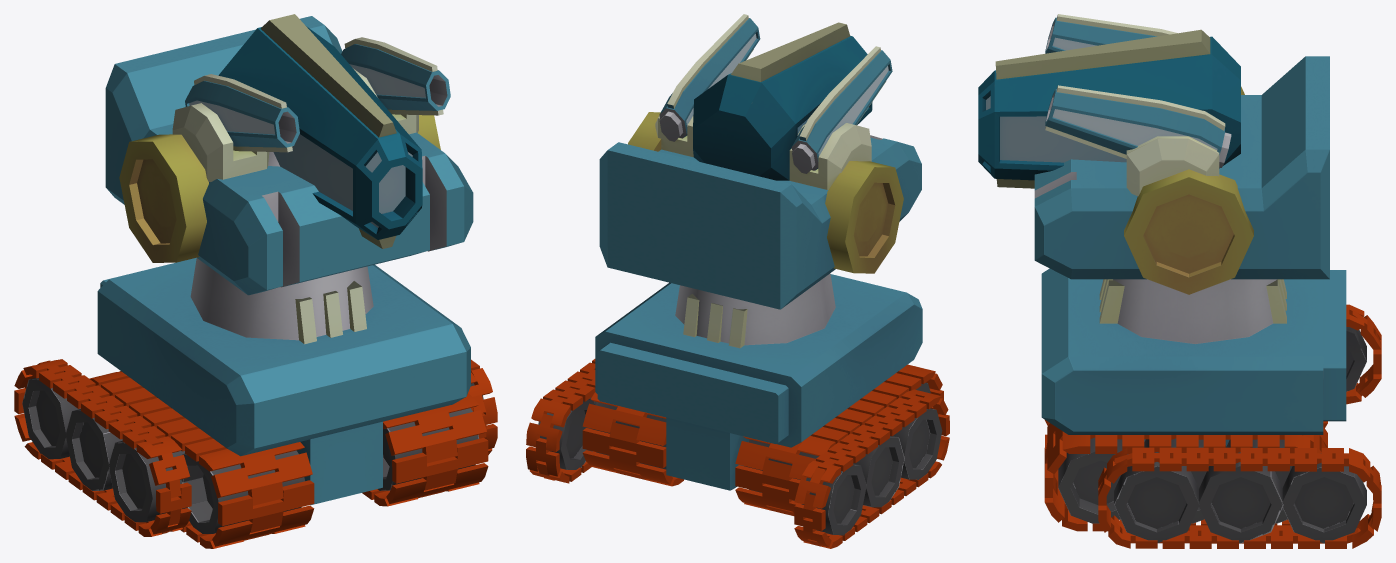
The model's file is player_idle_2_upgrade4.obj.
3 renders of one model, left to right at view 1: azimuth 30°, elevation 25°; view 2: azimuth 150°, elevation 25°; view 3: azimuth 270°, elevation 25°, orthographic. The views are drawn at different scales.
Parts seen in each view (by area): view 1: Object004, Box038, Object012, Box043, Object013, Box042, Object011, Box044; view 2: Object004, Object012, Box043, Box038, Object013, Box042, Box044, Object014, Object011; view 3: Object004, Object014, Box044, Object012, Box042, Object011, Box043, Object013.
Part boxes in pixels (<box>): Object004: <box>97,14,473,505</box>; Box038: <box>89,371,314,548</box>; Object012: <box>185,37,450,152</box>; Box043: <box>14,359,191,536</box>; Object013: <box>22,378,182,522</box>; Box042: <box>362,393,488,506</box>; Object011: <box>174,408,478,533</box>; Box044: <box>468,359,497,454</box>; Object004: <box>595,22,922,490</box>; Object012: <box>659,14,892,173</box>; Box043: <box>794,389,949,548</box>; Box038: <box>735,364,943,515</box>; Object013: <box>801,408,942,535</box>; Box042: <box>582,392,683,486</box>; Box044: <box>526,359,596,483</box>; Object014: <box>538,397,596,469</box>; Object011: <box>591,382,930,500</box>; Object004: <box>978,29,1346,446</box>; Object014: <box>1114,452,1366,543</box>; Box044: <box>1098,447,1381,548</box>; Object012: <box>1045,14,1231,167</box>; Box042: <box>1044,423,1327,531</box>; Object011: <box>1058,437,1292,523</box>; Box043: <box>1346,304,1381,404</box>; Object013: <box>1346,327,1366,391</box>.
Bounding box in the file's own units: 139 × 178 × 149.
4 materials, 2 textured.
